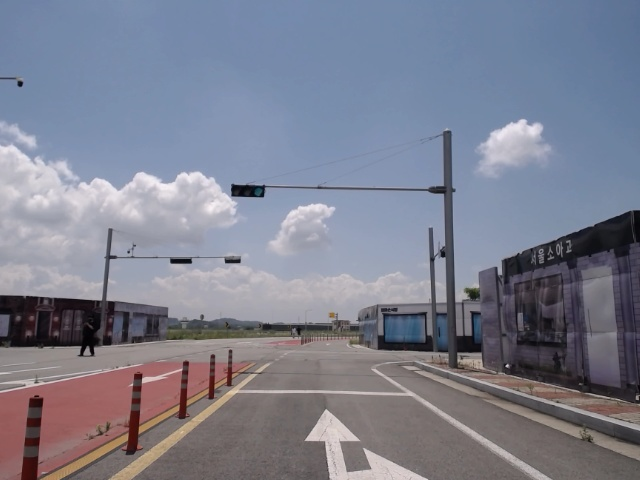green_3: (233, 184, 265, 197)
